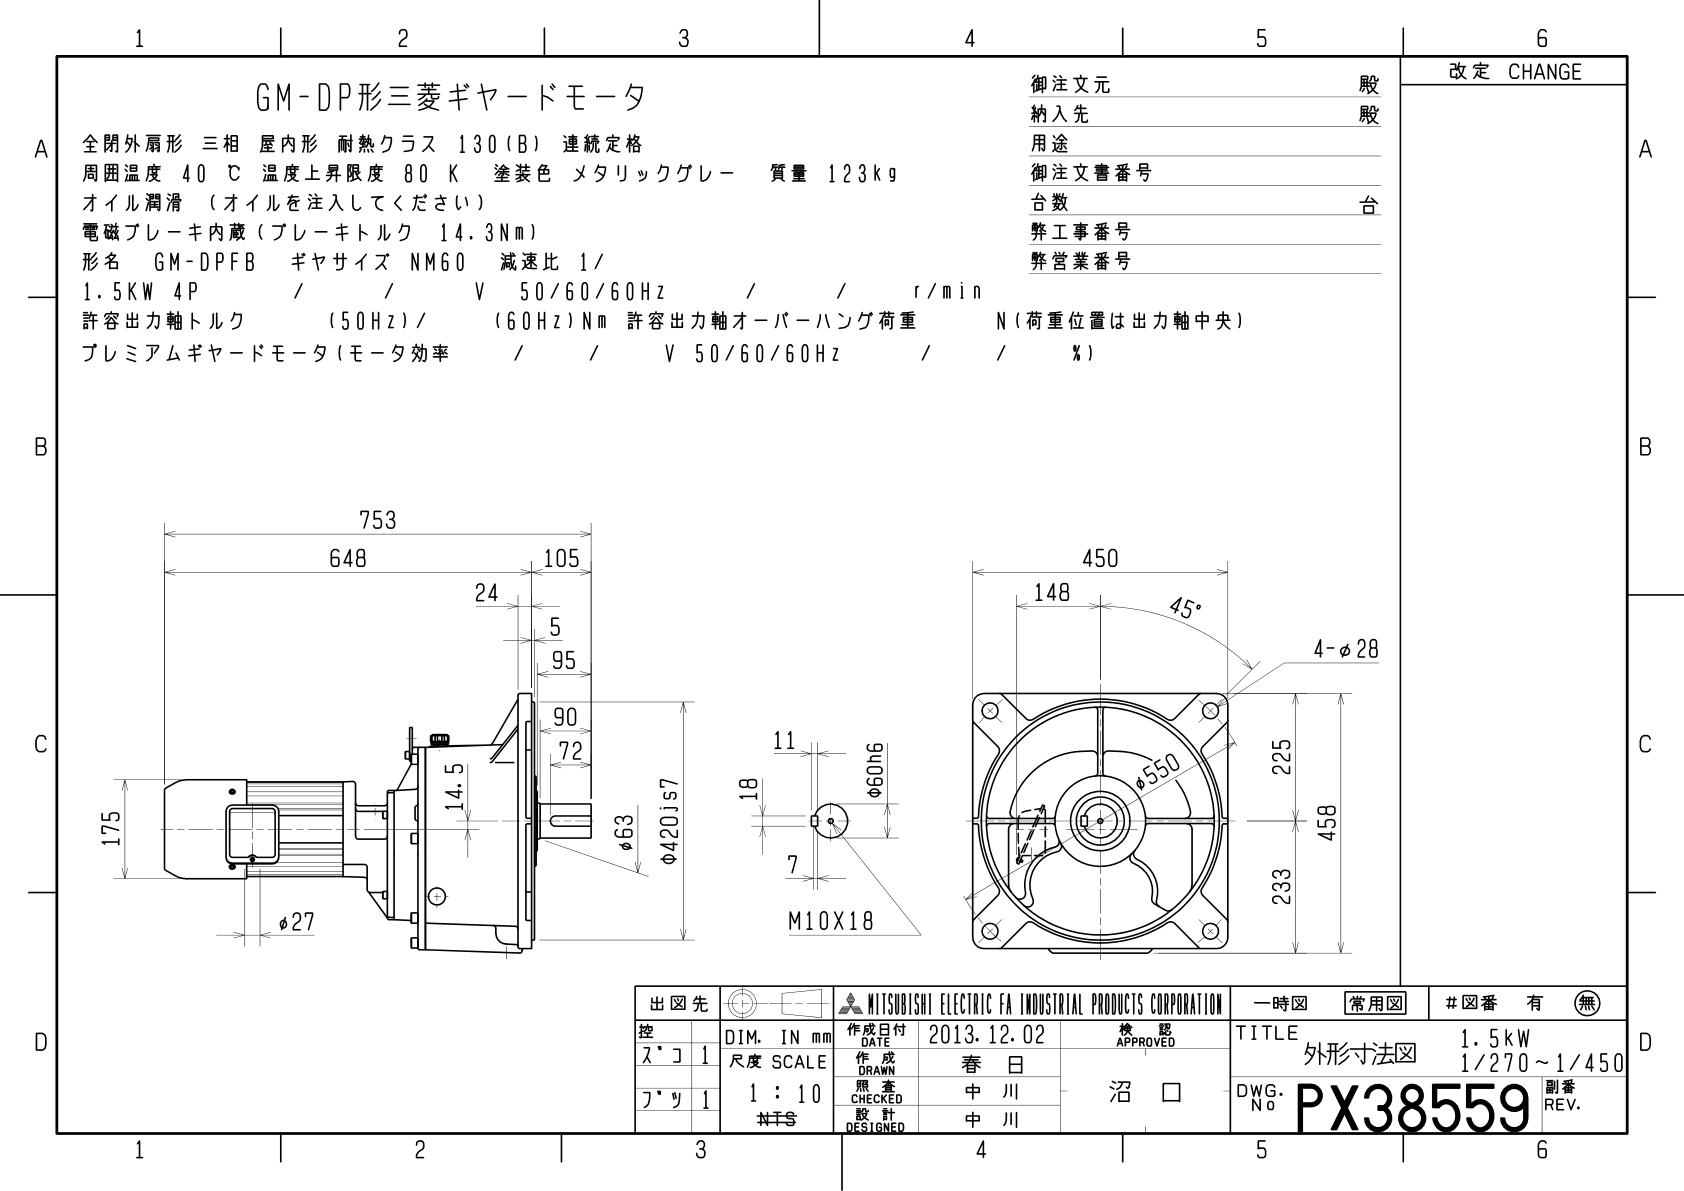GM_DP_屋内_三相_フランジ: (1, 1, 1666, 1163)
